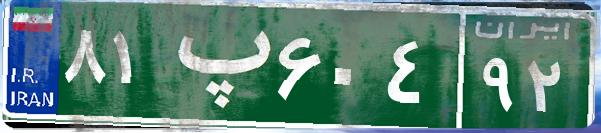0: (330, 28, 385, 110)
1: (110, 28, 158, 105)
2: (525, 38, 570, 115)
4: (385, 28, 445, 110)
6: (273, 28, 330, 110)
8: (57, 26, 110, 107)
9: (475, 38, 525, 113)
پ: (158, 15, 273, 115)
